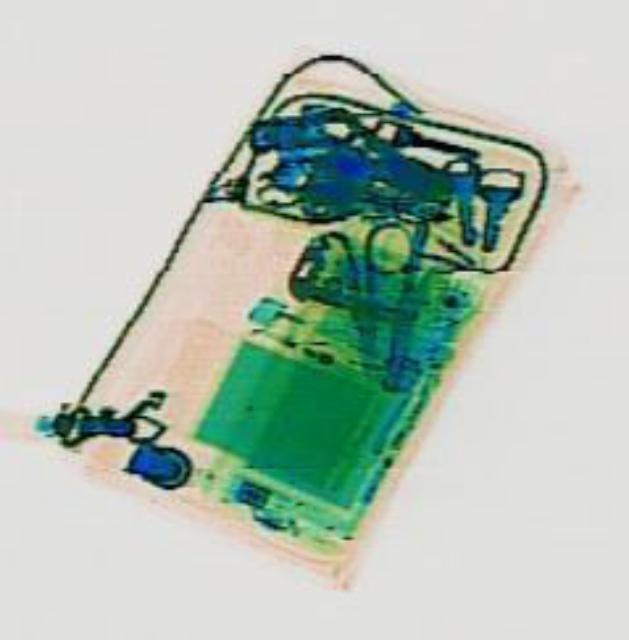Scissors: (304, 218, 419, 376)
